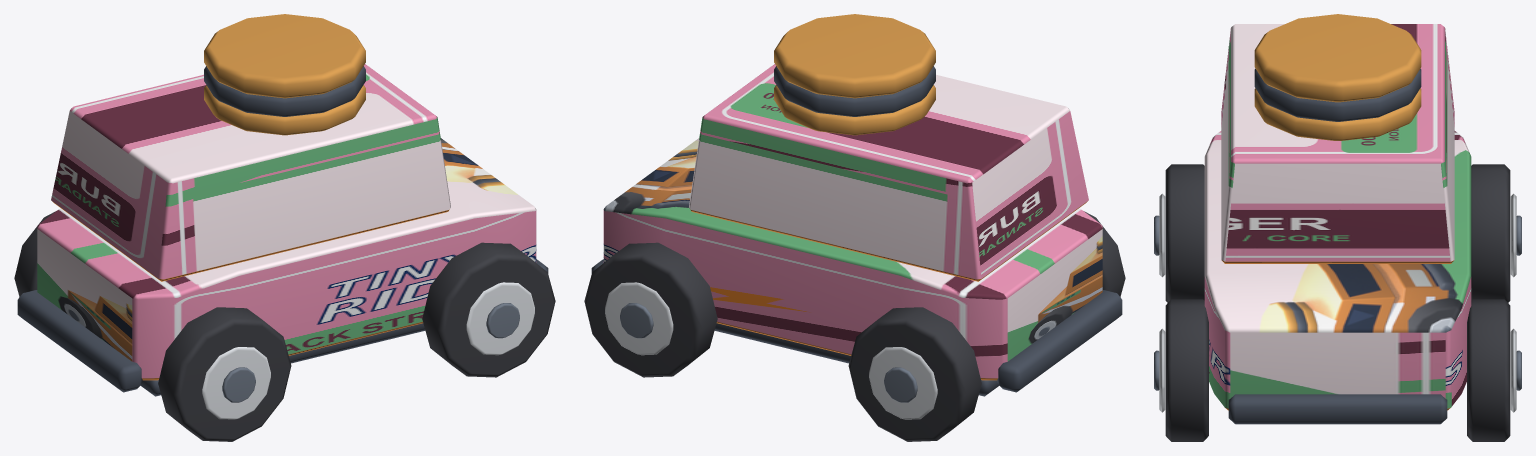
The picture shows the model from 3 angles, left to right: view 1: azimuth 30°, elevation 25°; view 2: azimuth 150°, elevation 25°; view 3: azimuth 270°, elevation 25°; orthographic projection. The views are drawn at different scales.
Parts seen in each view (by area): view 1: SS-03_cabin, SS-03_connected_shell, burger layer.002, Tire, Tire.002, front bumper, burger layer.001, burger layer, Rim, Rim.002, underbody, Tire.001 (+2 smaller); view 2: SS-03_cabin, SS-03_connected_shell, burger layer.002, Tire.001, Tire.003, front bumper, burger layer.001, burger layer, Rim.001, Rim.003, underbody, Tire (+2 smaller); view 3: SS-03_connected_shell, SS-03_cabin, burger layer.002, rear bumper, Tire.002, Tire.003, Tire, Tire.001, burger layer.001, burger layer, Rim, Rim.001 (+2 smaller).
Boxes of the visible parts, x1,y1,x2,y2 form: SS-03_cabin: (51, 64, 450, 281); SS-03_connected_shell: (37, 138, 536, 380); burger layer.002: (204, 14, 365, 98); Tire: (158, 307, 291, 441); Tire.002: (422, 242, 555, 377); front bumper: (17, 290, 142, 392); burger layer.001: (204, 66, 365, 116); burger layer: (204, 85, 365, 135); Rim: (202, 347, 270, 419); Rim.002: (466, 282, 534, 355); underbody: (140, 323, 425, 396); Tire.001: (14, 211, 55, 296); SS-03_cabin: (689, 64, 1088, 281); SS-03_connected_shell: (603, 138, 1102, 380); burger layer.002: (774, 14, 935, 98); Tire.001: (848, 307, 981, 441); Tire.003: (584, 242, 717, 377); front bumper: (997, 290, 1122, 392); burger layer.001: (774, 66, 935, 116); burger layer: (774, 85, 935, 135); Rim.001: (869, 347, 937, 419); Rim.003: (605, 282, 673, 355); underbody: (714, 323, 999, 396); Tire: (1084, 211, 1125, 296); SS-03_connected_shell: (1204, 131, 1471, 410); SS-03_cabin: (1221, 24, 1454, 263); burger layer.002: (1254, 14, 1421, 102); rear bumper: (1228, 394, 1447, 424); Tire.002: (1165, 299, 1208, 441); Tire.003: (1467, 299, 1510, 441); Tire: (1165, 164, 1204, 302); Tire.001: (1471, 164, 1510, 302); burger layer.001: (1254, 68, 1421, 121); burger layer: (1254, 88, 1421, 140); Rim: (1159, 193, 1165, 277); Rim.001: (1510, 193, 1516, 277).
Bounding box in the file's own units: 314 × 213 × 221.
